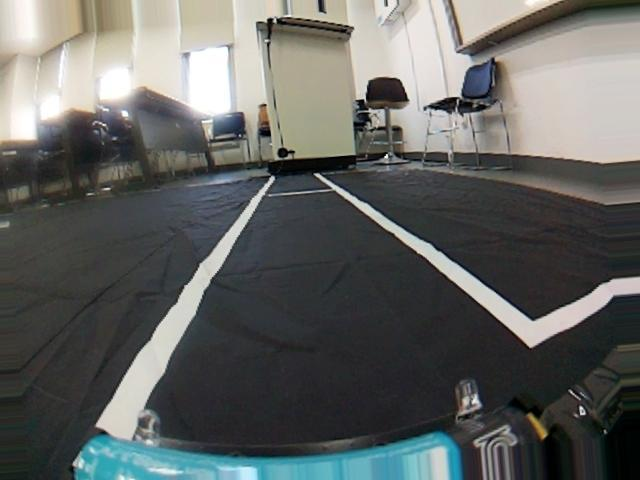straight: (95, 186, 570, 453)
